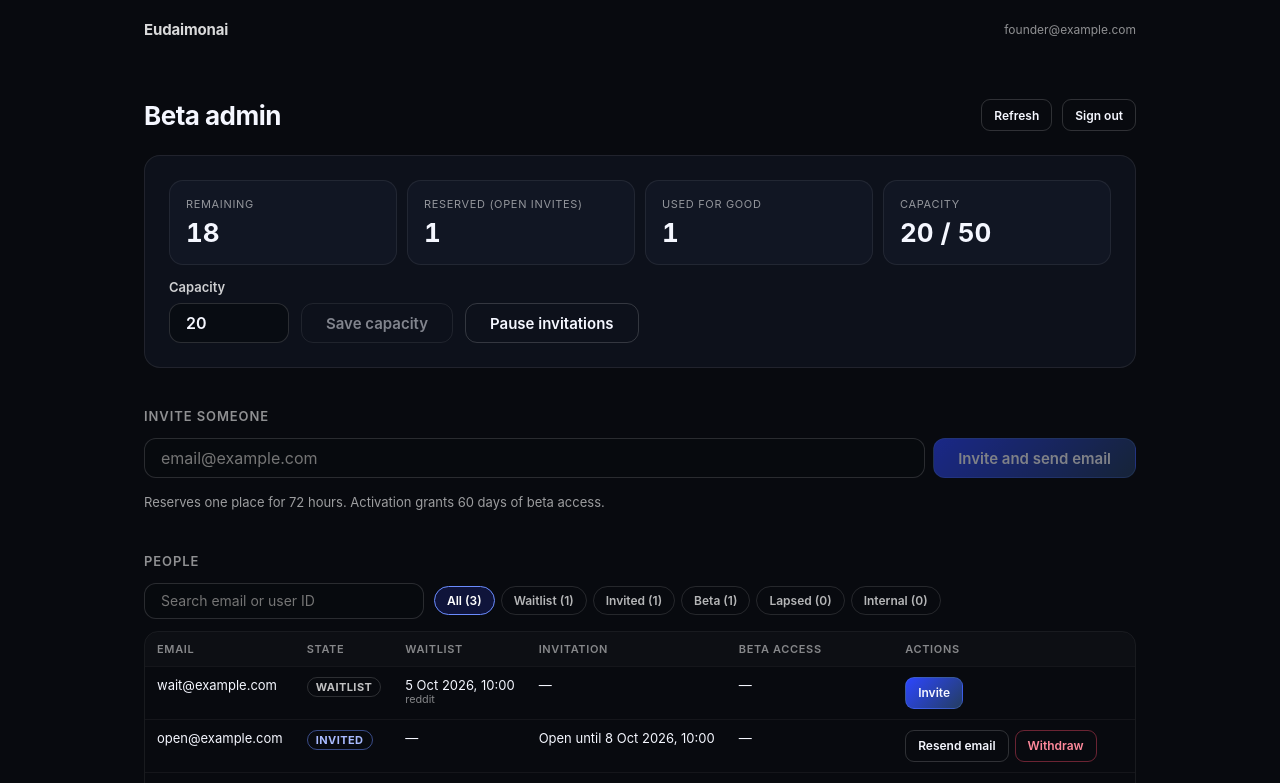
Test: AdminConsole › pauses invitations and saves capacity through the config function
The width and height of the screenshot is (1280, 783).
Check: the text "wait@example.com" is shown, box [145, 666, 295, 719]
Click the button "Pause invitations". click: [552, 323]
box: [465, 303, 639, 343]
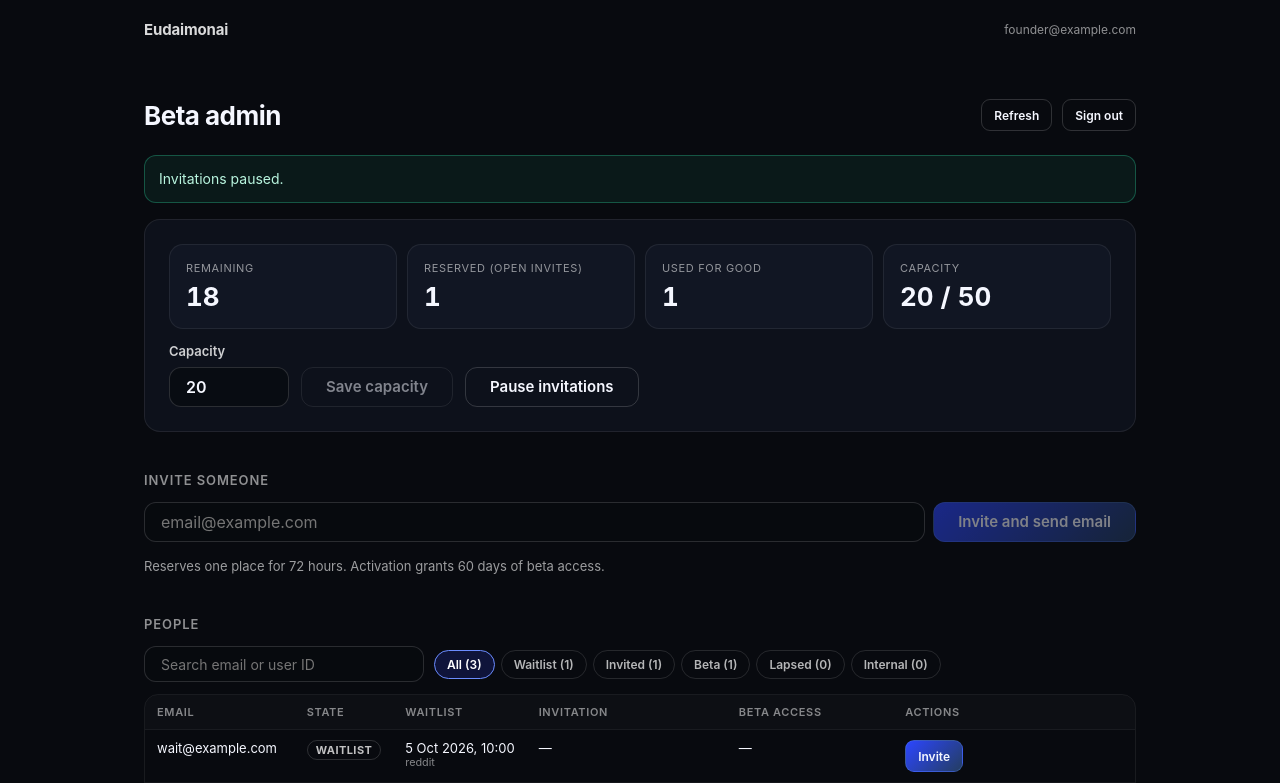
Check: the text "Invitations paused." is shown, box [144, 155, 1136, 203]
Replace the text in the number field labelled "Capacity" with "25". click: [229, 387]
box: [169, 367, 289, 407]
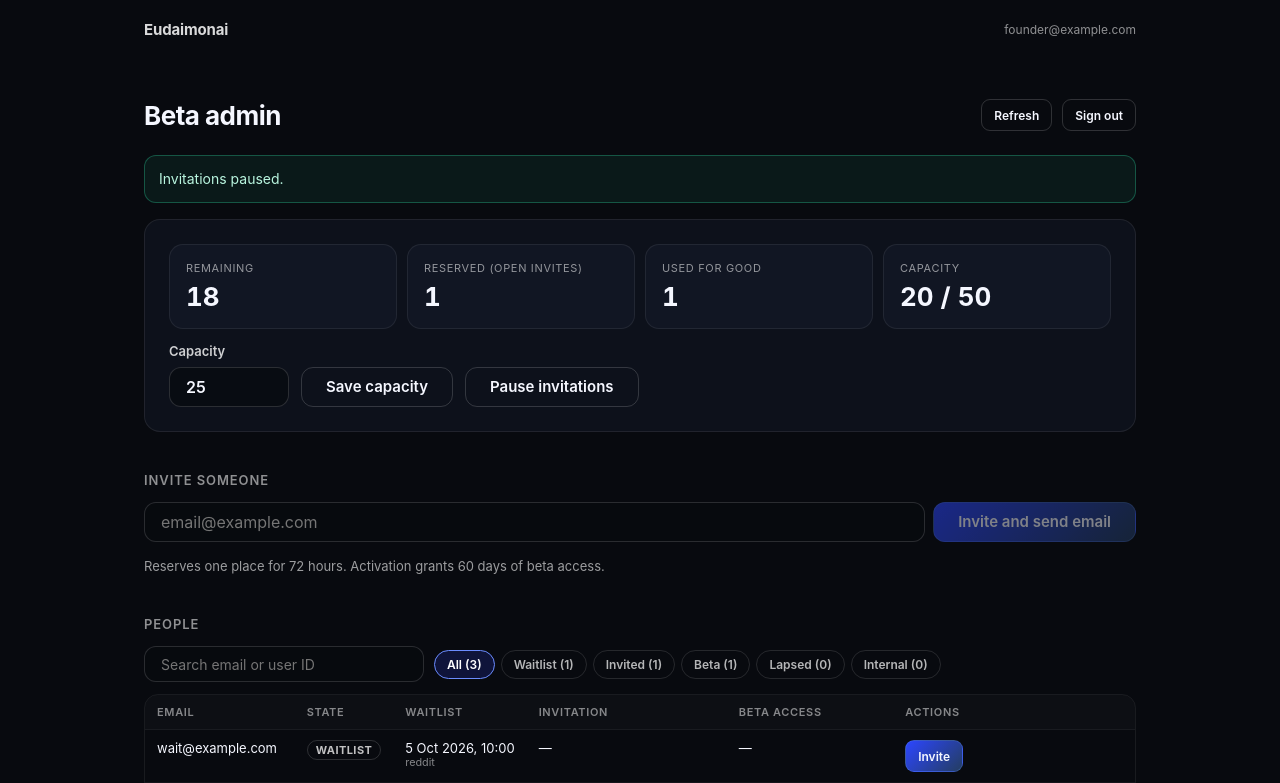
Click the button "Save capacity". click: [377, 387]
box: [301, 367, 453, 407]
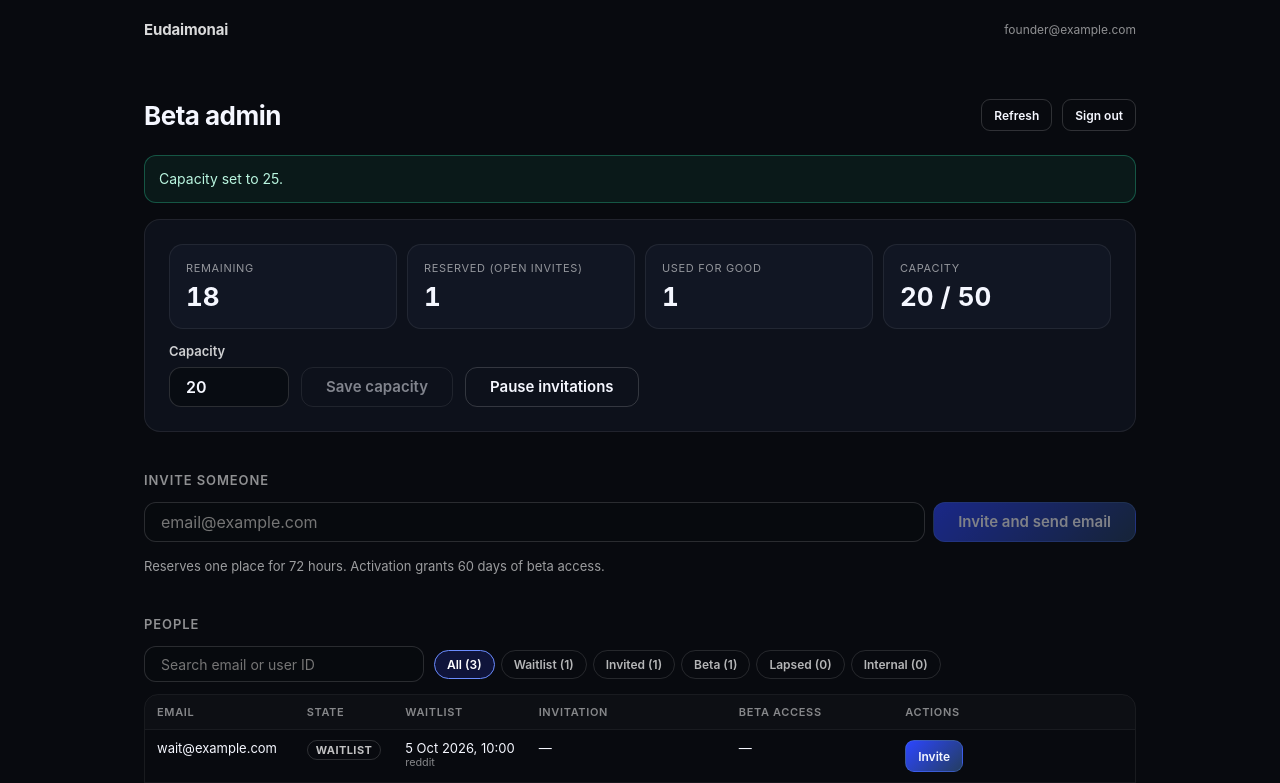
Check: the text "Capacity set to 25." is shown, box [144, 155, 1136, 203]
